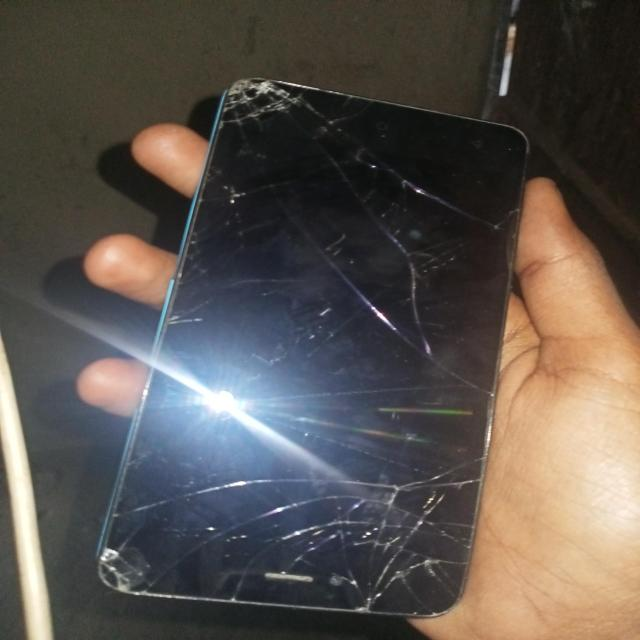mobile: (2, 61, 596, 640)
